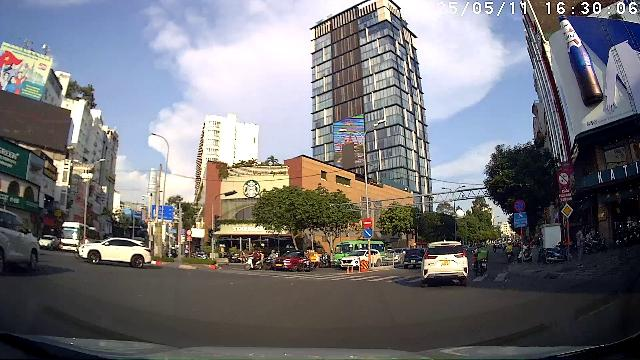102-cam-di-nguoc-chieu: (363, 218, 372, 228)
130-cam-dung-va-do-xe: (513, 199, 526, 212)
302a-huong-phai-di-vong-chuong-ngai-vat-1: (363, 228, 373, 238)
